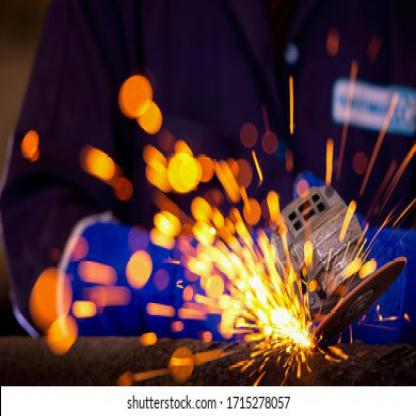with_gloves: (62, 214, 258, 351)
